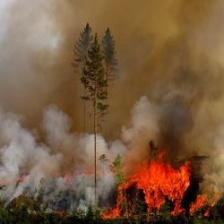fire: (126, 160, 213, 216)
smoke: (130, 4, 224, 147), (2, 105, 111, 218)
